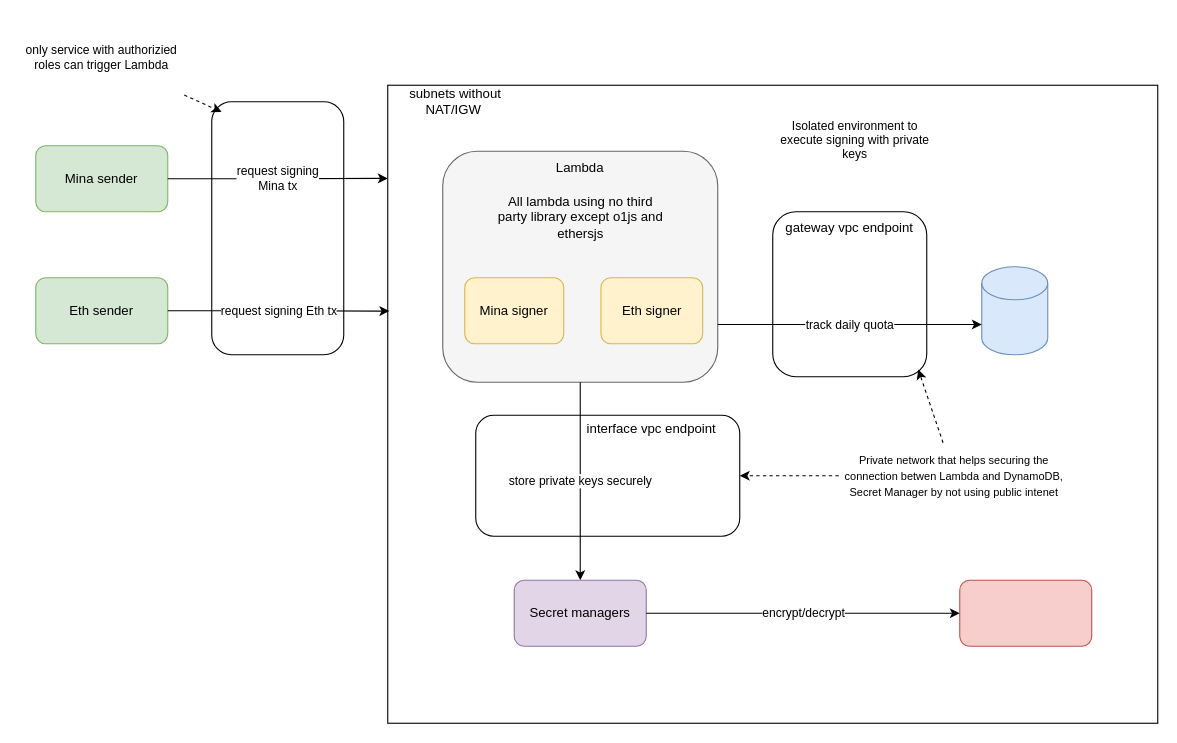
Some shapes in this 1177 by 743 pixel diagram are drawn without their labels. Here are the shapes that lost their labels. From the top down, the centre of each, then its label:
pixel 277 228: IAM roles
pixel 1014 310: DynamoDB
pixel 1025 612: KMS
